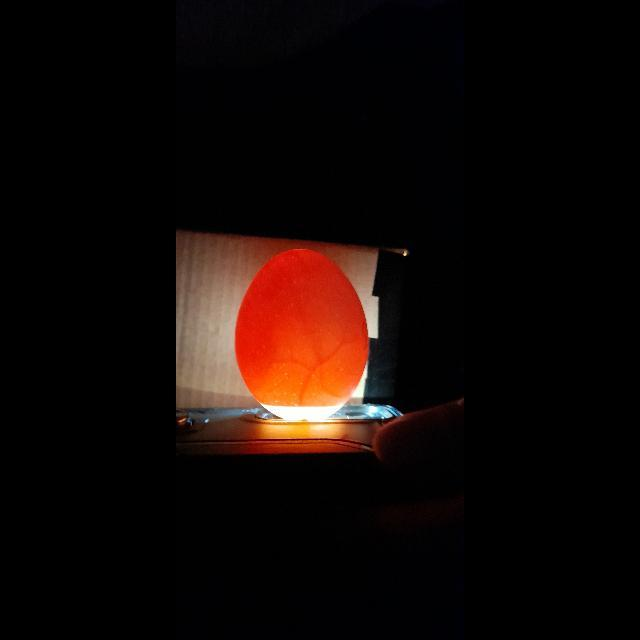Fertile: (235, 248, 365, 422)
